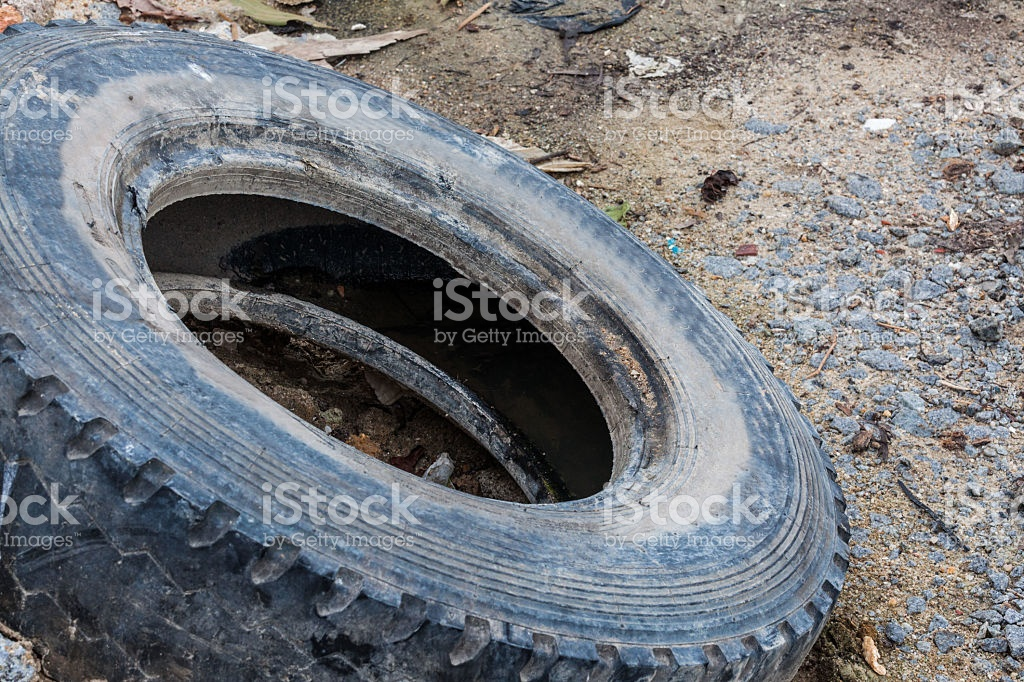tire: (1, 28, 847, 680)
